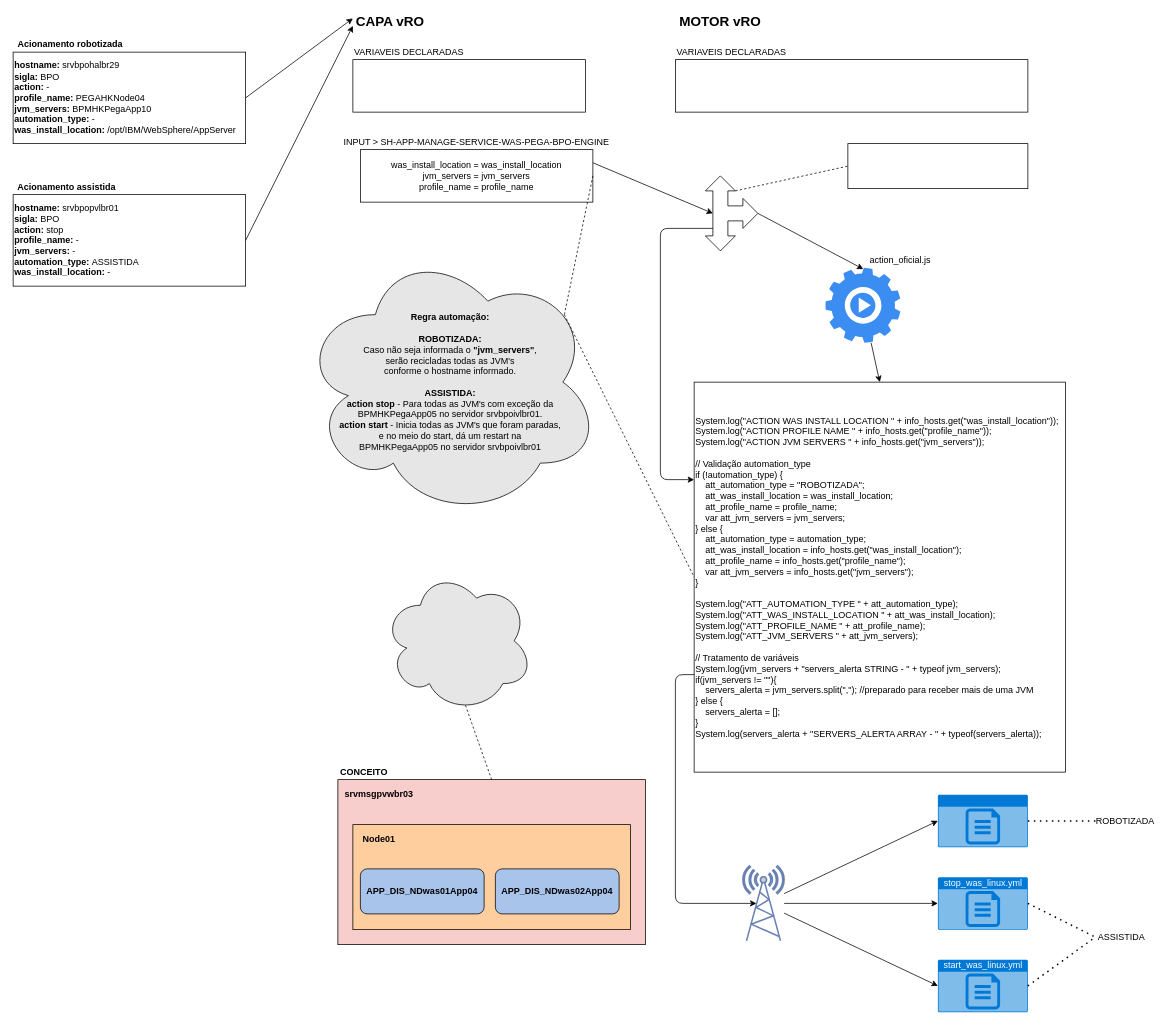
The diagram is 1169 pixels wide and 1025 high, and some of its shapes have lost their labels. Each missing label, with the centre of its shape:
automation_type equals ASSISTIDA go to action_oficial.js: the point at 937,166
Nesta automação, por ter sido informado a JVM, então somente ela será reciclada.: the point at 457,640
playbook_jobid = 3255 playbook_jobid_linux = 3255: the point at 851,85
was_linux.yml: the point at 983,820
was_startup_cmd_linux = startServer.sh servers_alerta = "" (array): the point at 468,85
